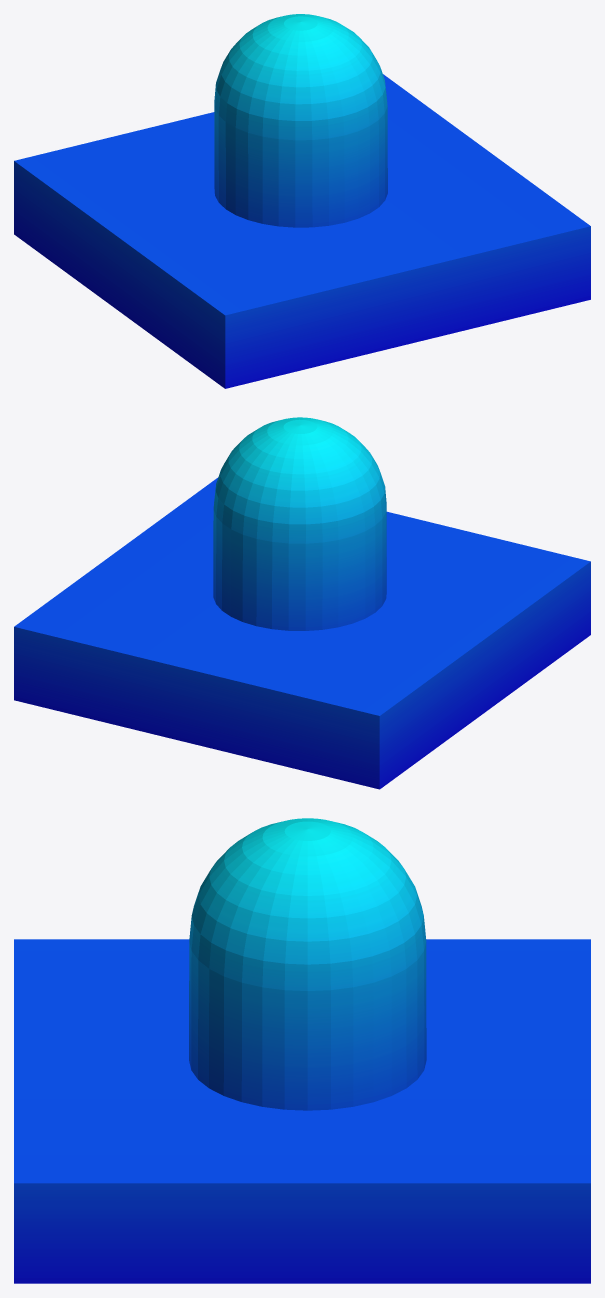
File: hockeysquarepaddle.obj
The picture shows the model from 3 angles, top to bottom: view 1: azimuth 30°, elevation 25°; view 2: azimuth 150°, elevation 25°; view 3: azimuth 270°, elevation 25°; orthographic projection. The views are drawn at different scales.
Parts seen in each view (by area): view 1: Cube_Cube.001; view 2: Cube_Cube.001; view 3: Cube_Cube.001.
Part boxes in pixels (<box>): Cube_Cube.001: <box>14,14,590,388</box>; Cube_Cube.001: <box>14,417,590,789</box>; Cube_Cube.001: <box>14,818,590,1283</box>.
Bounding box in the file's own units: 2 × 1.27 × 2.
